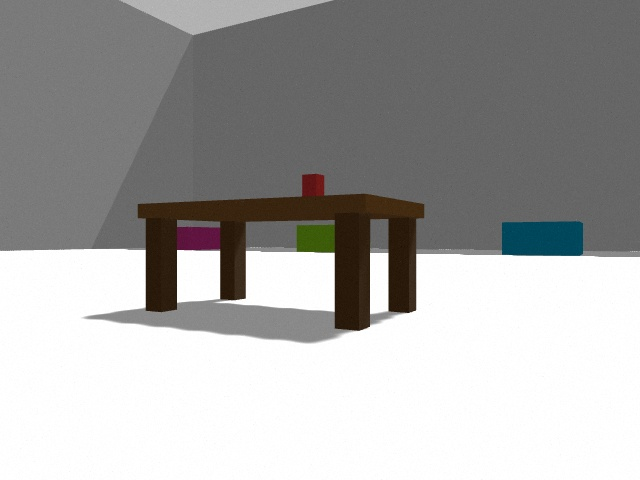blue_drop_zone: (502, 221, 583, 256)
green_drop_zone: (297, 225, 334, 252)
red_cube: (316, 174, 324, 195)
red_drop_zone: (177, 227, 220, 250)
